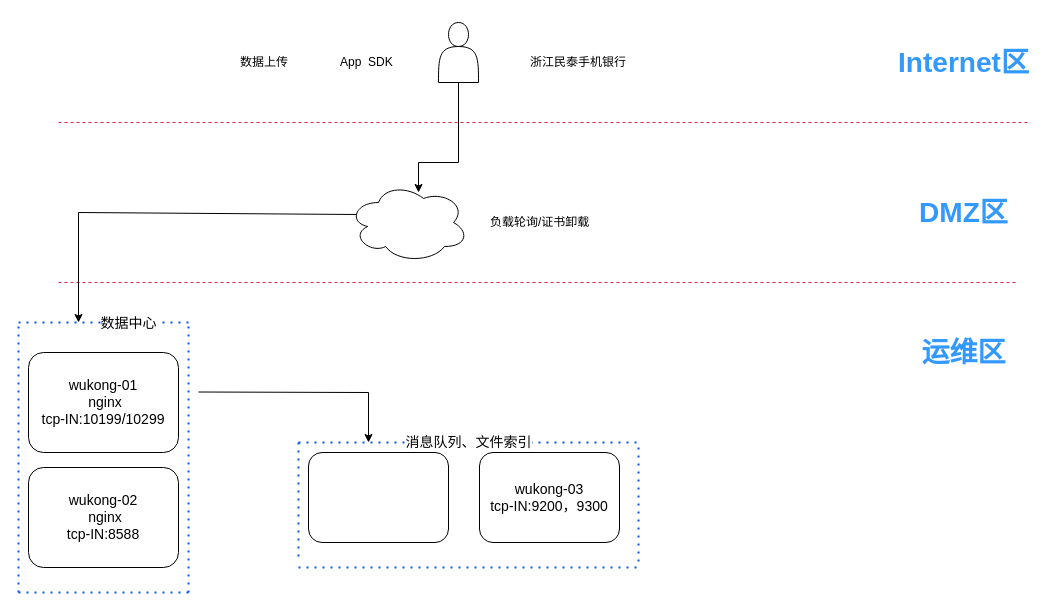
This 1047x611 diagram has some shape labels left out. Each missing label, with the centre of its shape:
"MTB-LB" belongs at [408,222].
"wukong-02 tcp-IN:2181，9092" belongs at [378,497].
